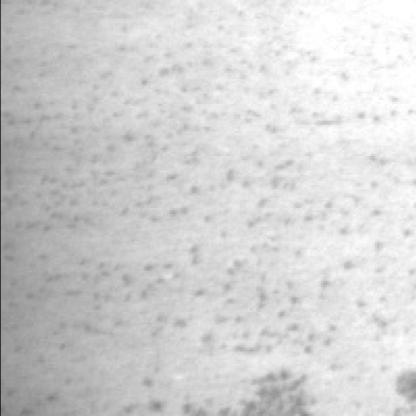pitted_surface: (0, 0, 412, 404)
